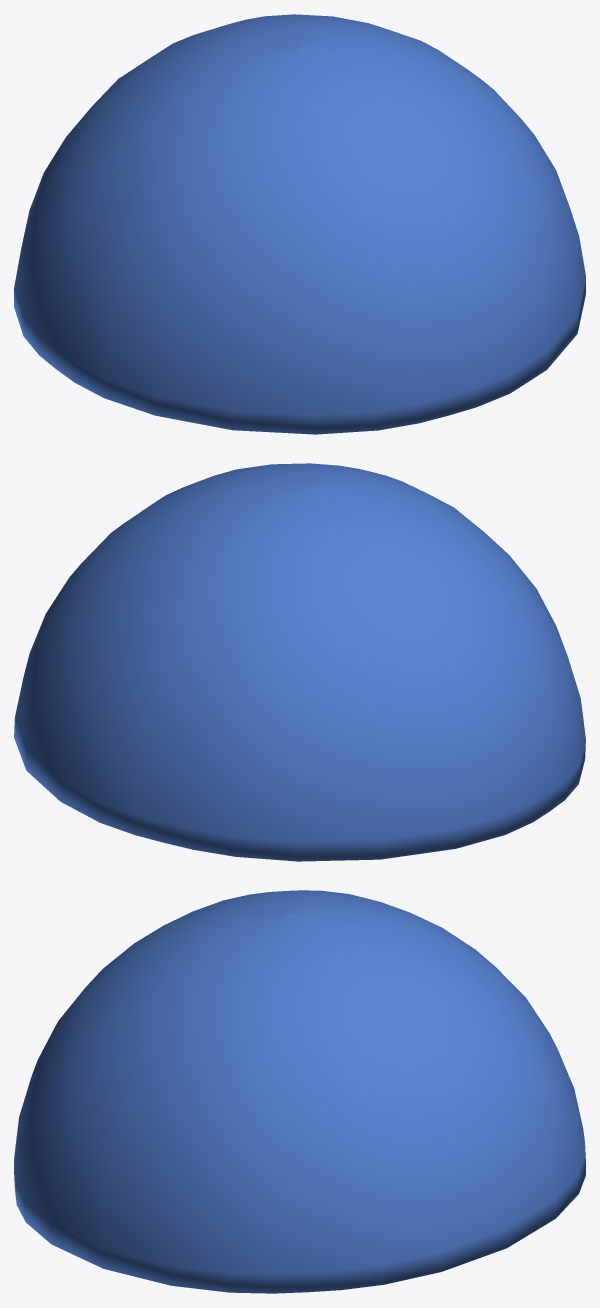
File: blueslime.fbx
The picture shows the model from 3 angles, top to bottom: view 1: azimuth 30°, elevation 25°; view 2: azimuth 150°, elevation 25°; view 3: azimuth 270°, elevation 25°; orthographic projection.
Parts seen in each view (by area): view 1: SurfSphere; view 2: SurfSphere; view 3: SurfSphere.
Boxes of the visible parts, <box> form: SurfSphere: <box>14,14,585,434</box>; SurfSphere: <box>14,463,585,861</box>; SurfSphere: <box>14,890,585,1293</box>.
Size of the model in its own units: 1.99 by 1.05 by 2.
